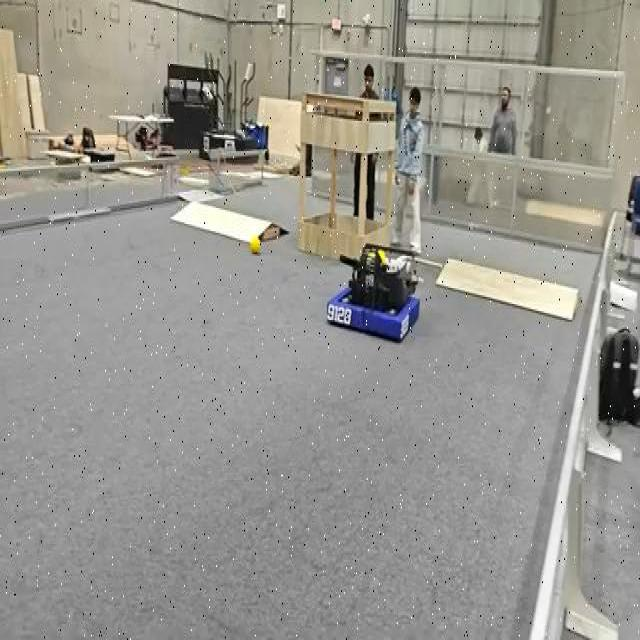Fuel: (250, 236, 260, 254), (249, 236, 260, 252)
